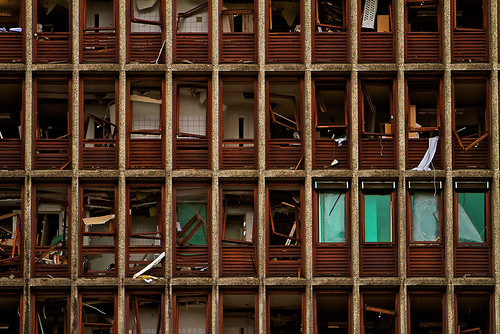building: (18, 1, 494, 331)
